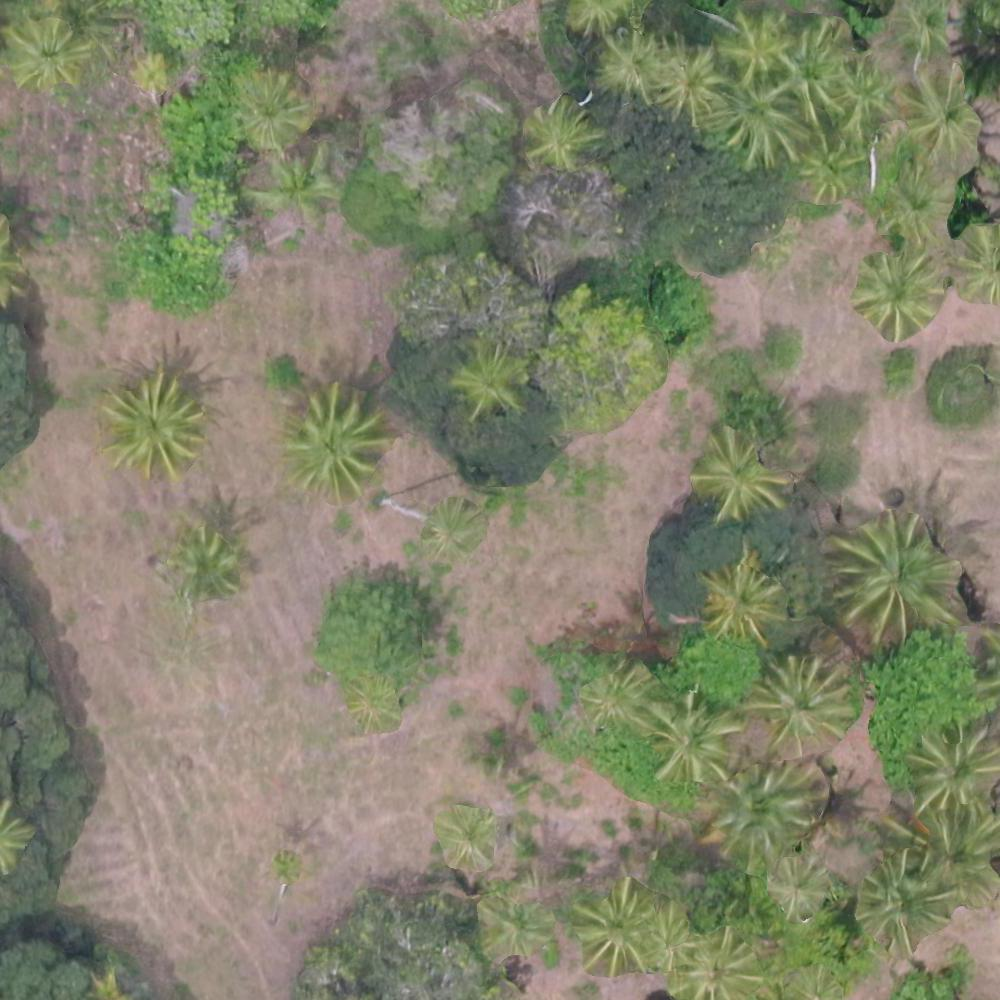Palm: (837, 516, 955, 638), (709, 757, 815, 861), (284, 390, 383, 495), (908, 804, 998, 904), (107, 374, 196, 474), (752, 659, 848, 748), (718, 72, 808, 164), (912, 718, 995, 815), (855, 859, 944, 947), (700, 554, 784, 640), (655, 693, 736, 781), (780, 25, 857, 117), (697, 431, 780, 516), (576, 882, 654, 972), (859, 249, 940, 334), (903, 67, 981, 155), (4, 17, 92, 93), (654, 42, 728, 124), (231, 72, 314, 145), (254, 149, 335, 218), (876, 162, 951, 236), (450, 344, 525, 416), (672, 936, 758, 998), (172, 526, 243, 601), (528, 100, 598, 168), (720, 12, 787, 80), (583, 666, 653, 731), (799, 136, 864, 204), (598, 31, 663, 96), (343, 673, 402, 727)
